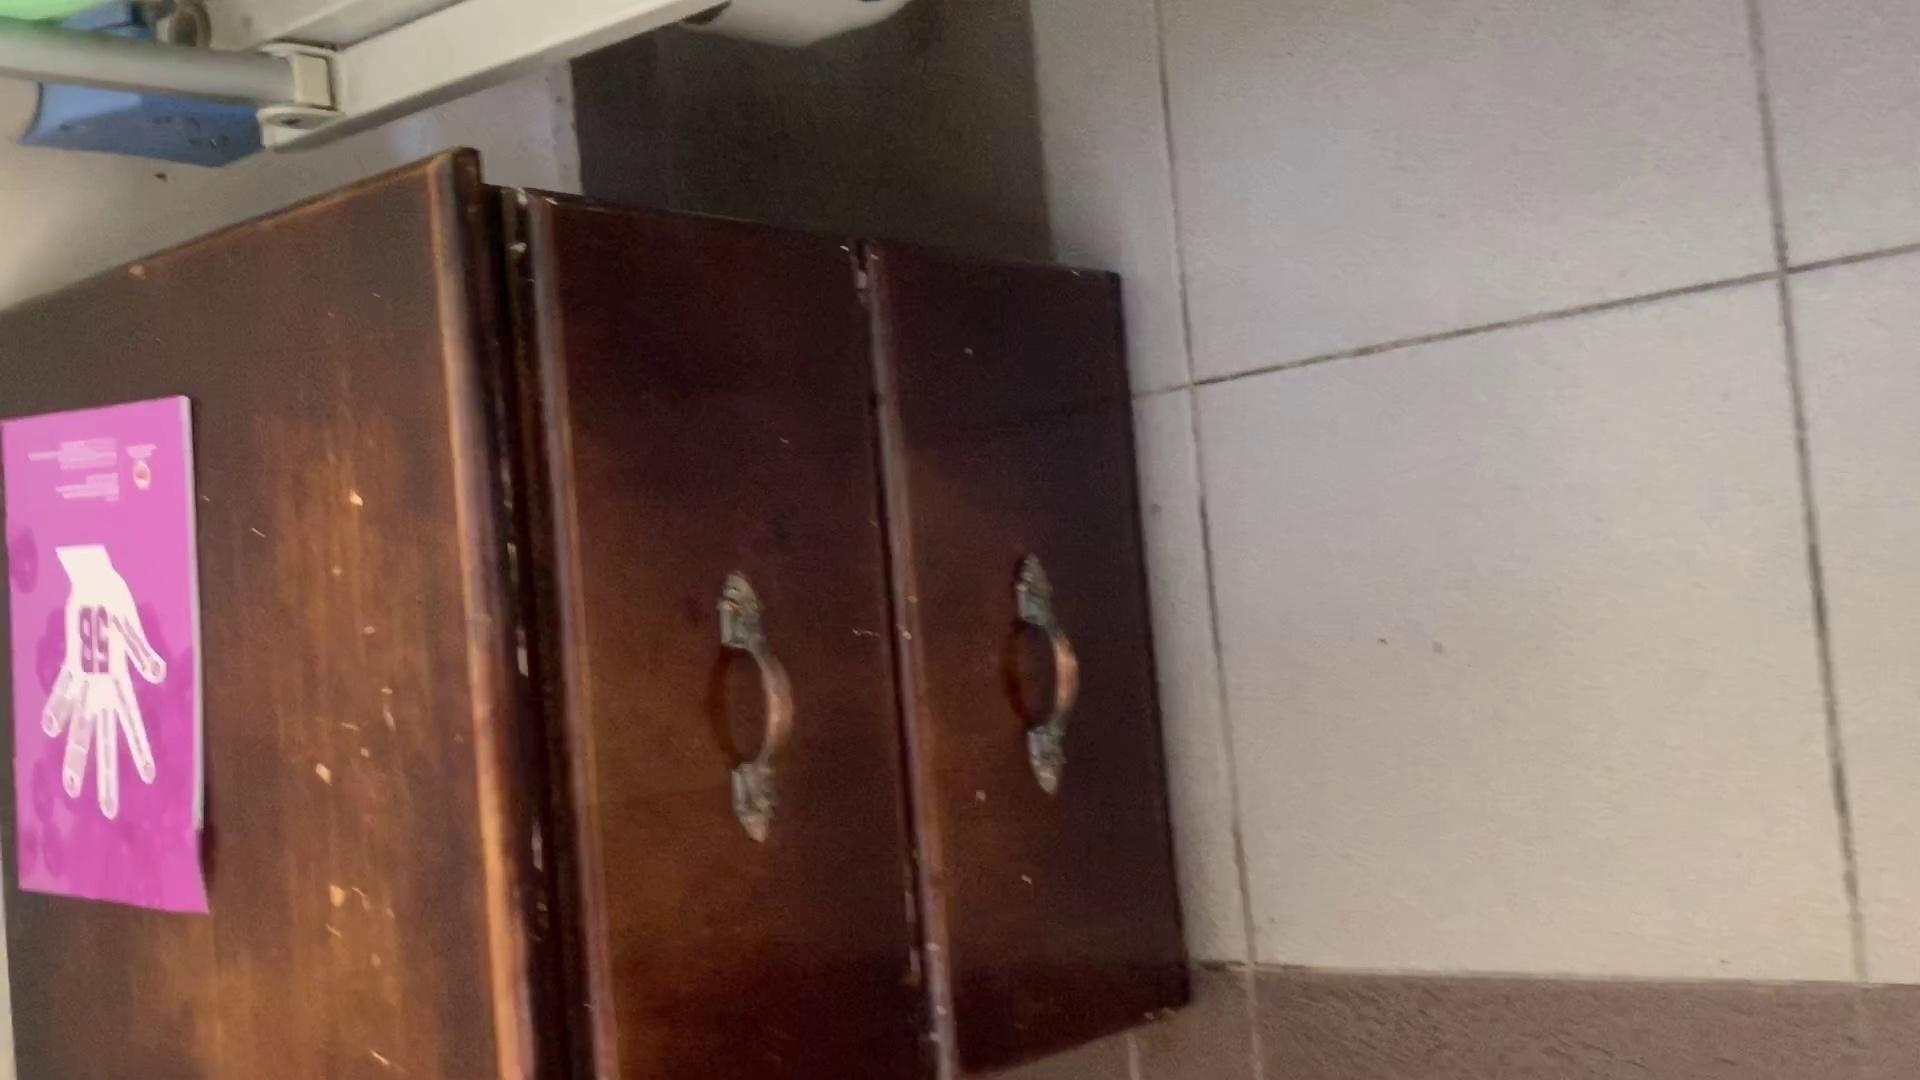cabinet_door: (549, 183, 913, 1080), (915, 265, 1155, 1047)
handle: (696, 578, 800, 847), (998, 549, 1097, 785)
